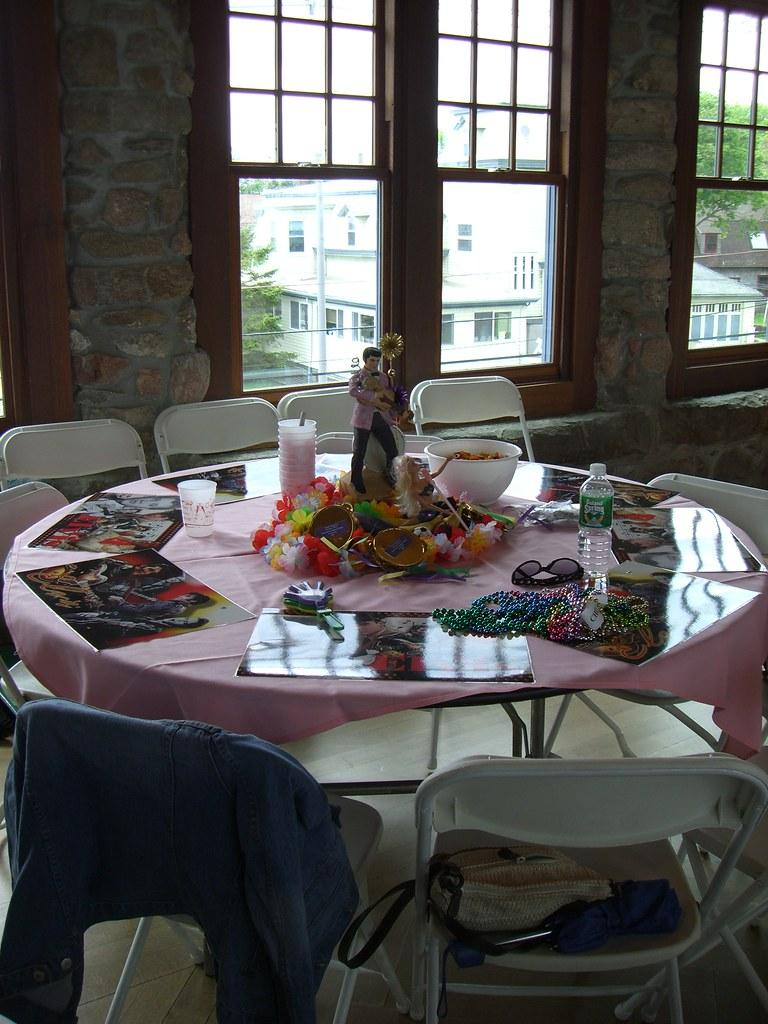table: (5, 418, 768, 1024)
